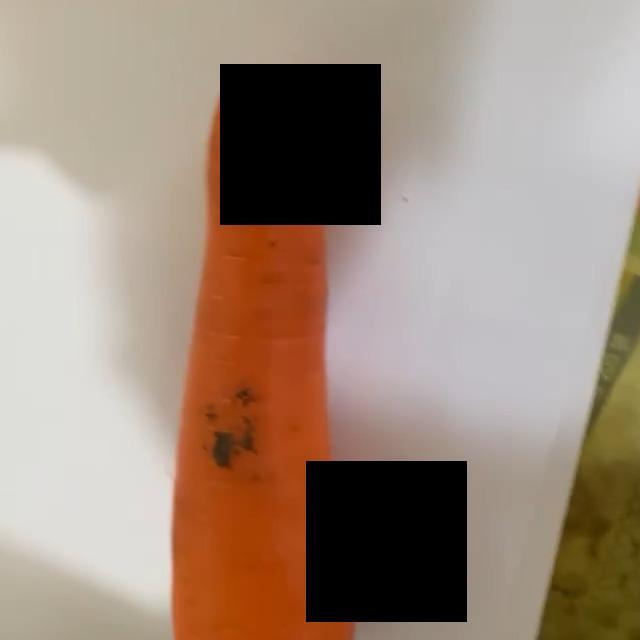carrot: (111, 71, 362, 640)
